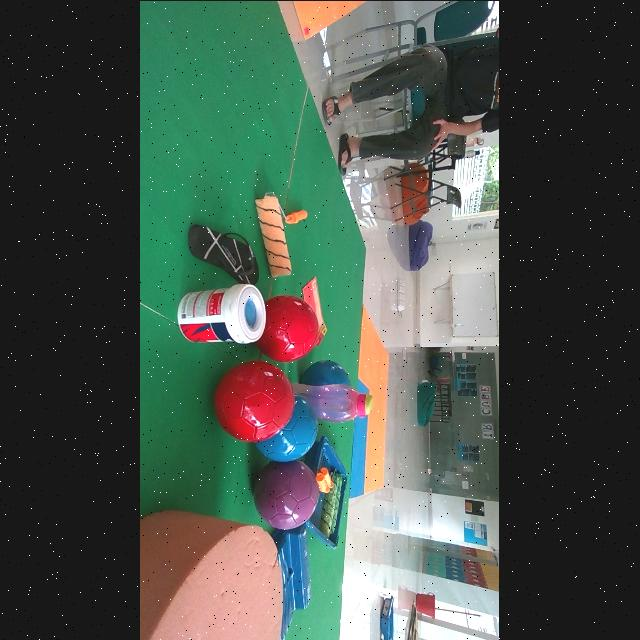B: (256, 394, 318, 460), (302, 360, 351, 385)
P: (254, 460, 321, 528)
R: (215, 360, 296, 441), (256, 294, 319, 360)
